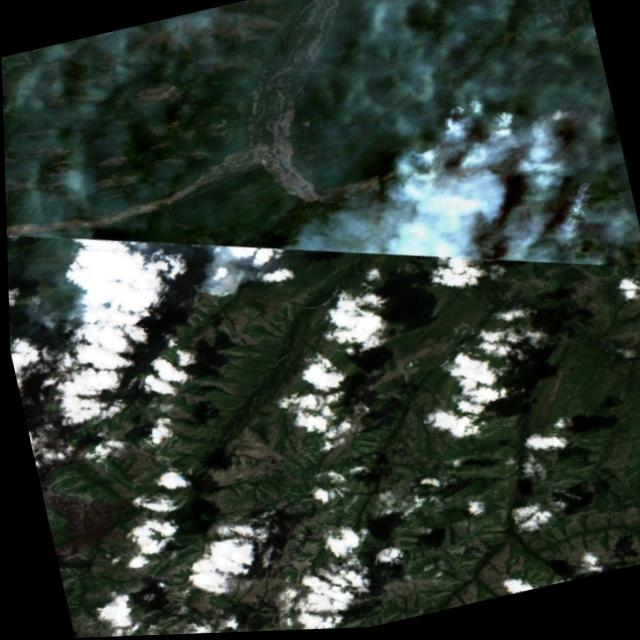fire: (415, 70, 589, 176), (558, 176, 609, 228)
